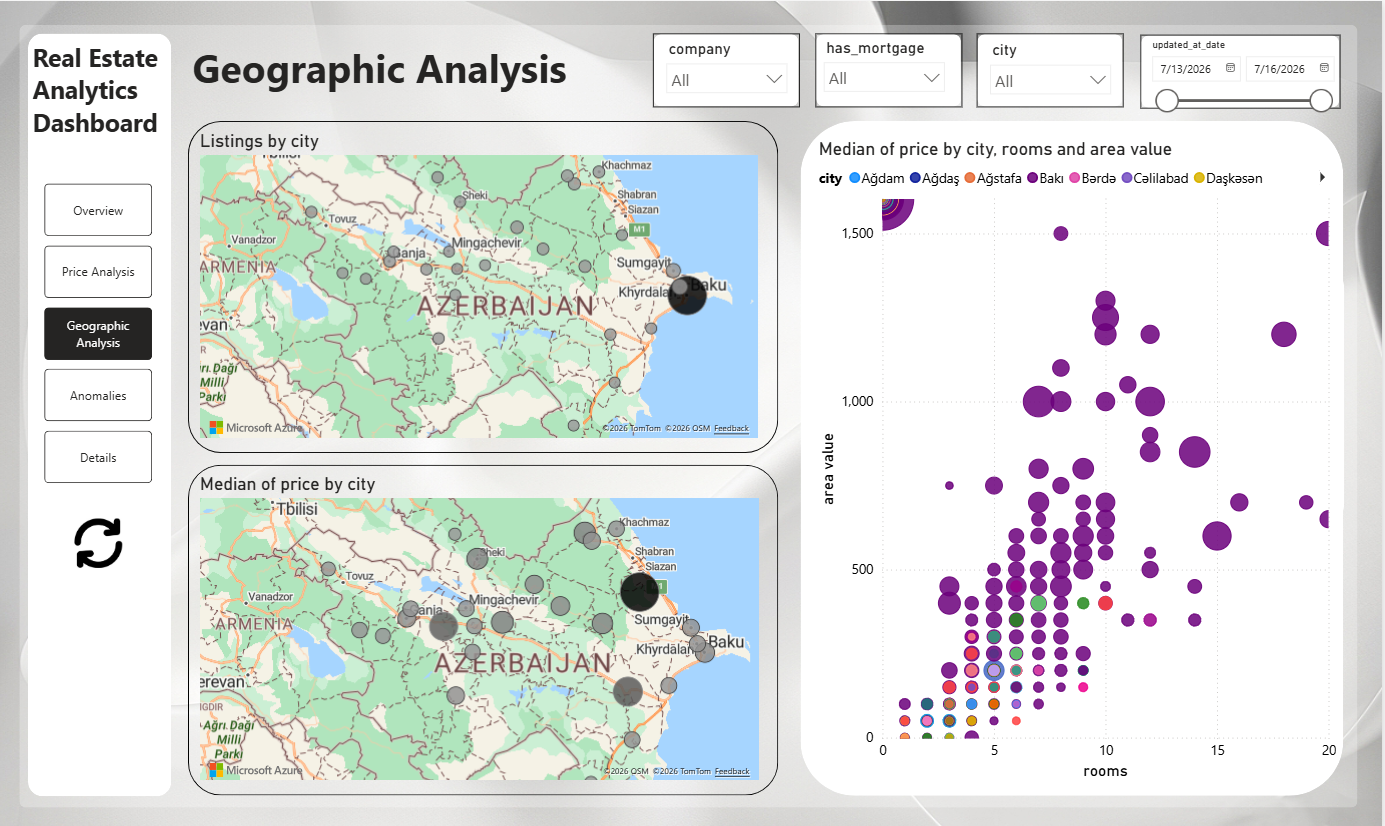

This screenshot's page, from the dashboard's own definition file:
{"tool":"powerbi","page":{"name":"Geographic Analysis","canvas":[1500,900],"ordinal":2},"visuals":[{"type":"shape","box":[23.2,25.9,1451.2,848.9],"z":0},{"type":"shape","box":[32.7,35.4,155.3,827.1],"z":1000},{"type":"textbox","box":[205.8,38.6,509.8,69.1],"z":2000},{"type":"shape","box":[205.8,130.3,640,360],"z":3000},{"type":"shape","box":[205.8,503.3,640,358.6],"z":4000},{"type":"shape","box":[1061,35.2,159,80.2],"z":5000},{"type":"shape","box":[979.4,281.4,479.8,292.7],"z":6000},{"type":"shape","box":[870,130.3,588.6,731.7],"z":7000},{"type":"shape","box":[886.5,35.2,159,80.2],"z":8000},{"type":"shape","box":[710.6,35.2,159,80.2],"z":9000},{"type":"shape","box":[1238.3,36.6,216.7,80.2],"z":10000},{"type":"slicer","fields":{"Values":["listings.city"]},"box":[1065.2,38,152,77.4],"z":11000},{"type":"slicer","fields":{"Values":["listings.updated_at_date"]},"box":[1238.3,35.2,216.7,90.1],"z":12000},{"type":"slicer","fields":{"Values":["listings.has_mortgage"]},"box":[885.1,35.2,152,77.4],"z":13000},{"type":"slicer","fields":{"Values":["listings.company"]},"box":[714.8,36.6,152,77.4],"z":14000},{"type":"textbox","box":[32.4,38,173.1,128],"z":15000},{"type":"azureMap","fields":{"Size":["Median(listings.price)"],"Category":["listings.city","listings.district"]},"box":[213.9,513,615.9,337.7],"z":16000},{"type":"azureMap","title":"Listings by city","fields":{"Category":["listings.city","listings.district"],"Size":["CountNonNull(listings.id)"]},"box":[213.9,141.5,615,337.7],"z":17000},{"type":"scatterChart","title":"Median of price by city, rooms and area value","fields":{"Y":["listings.area_value (bins)"],"X":["listings.rooms"],"Size":["Median(listings.price)"],"Series":["listings.city"]},"box":[884.4,149.6,570.9,699.5],"z":18000},{"type":"pageNavigator","box":[50.4,197.6,117.2,329.8],"z":19000},{"type":"image","box":[73.4,560.9,71.7,53.8],"z":20000}]}

Visuals, with their boxes on the page's 1500x900 design canvas (x1, y1, x2, y2). These are canvas units, not pixel positions in the 1385x826 screenshot, which may show the page scaled, cropped or inside an application window:
shape: detection(23, 26, 1474, 875)
shape: detection(33, 35, 188, 862)
textbox: detection(206, 39, 716, 108)
shape: detection(206, 130, 846, 490)
shape: detection(206, 503, 846, 862)
shape: detection(1061, 35, 1220, 115)
shape: detection(979, 281, 1459, 574)
shape: detection(870, 130, 1459, 862)
shape: detection(886, 35, 1046, 115)
shape: detection(711, 35, 870, 115)
shape: detection(1238, 37, 1455, 117)
slicer - listings.city: detection(1065, 38, 1217, 115)
slicer - listings.updated_at_date: detection(1238, 35, 1455, 125)
slicer - listings.has_mortgage: detection(885, 35, 1037, 113)
slicer - listings.company: detection(715, 37, 867, 114)
textbox: detection(32, 38, 206, 166)
azureMap - Median(listings.price) x listings.city: detection(214, 513, 830, 851)
"Listings by city" azureMap: detection(214, 142, 829, 479)
"Median of price by city, rooms and area value" scatterChart: detection(884, 150, 1455, 849)
pageNavigator: detection(50, 198, 168, 527)
image: detection(73, 561, 145, 615)
